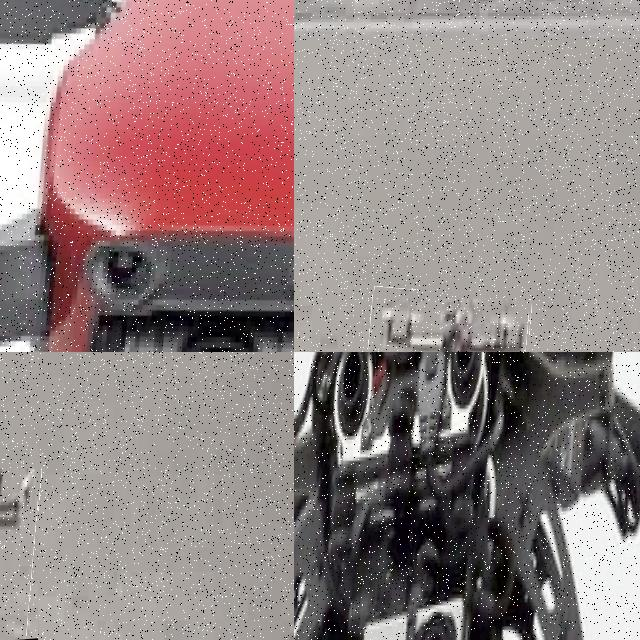0: (365, 290, 529, 352), (0, 444, 38, 640)
drone: (0, 0, 294, 352), (294, 352, 640, 640)
